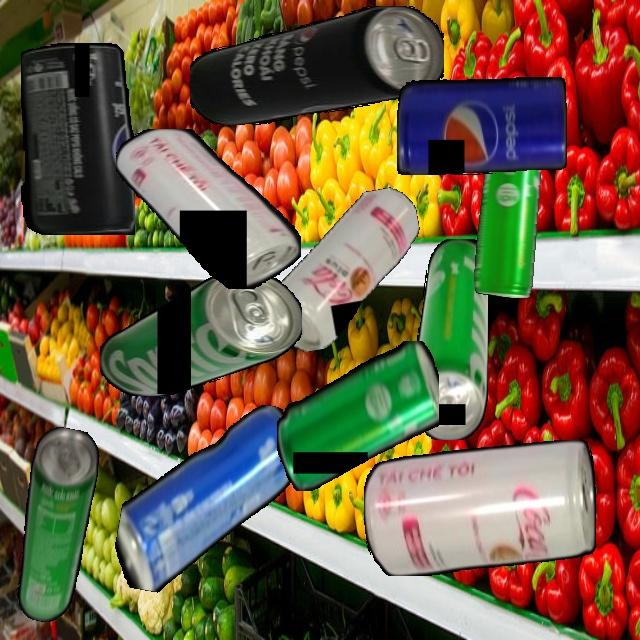debris: (109, 384, 306, 612), (251, 184, 437, 357), (363, 439, 597, 576), (189, 6, 444, 125), (116, 128, 301, 289), (99, 272, 302, 396), (276, 340, 439, 491), (20, 43, 135, 235), (6, 424, 104, 626), (396, 76, 567, 175), (411, 238, 488, 440), (473, 147, 541, 298)
